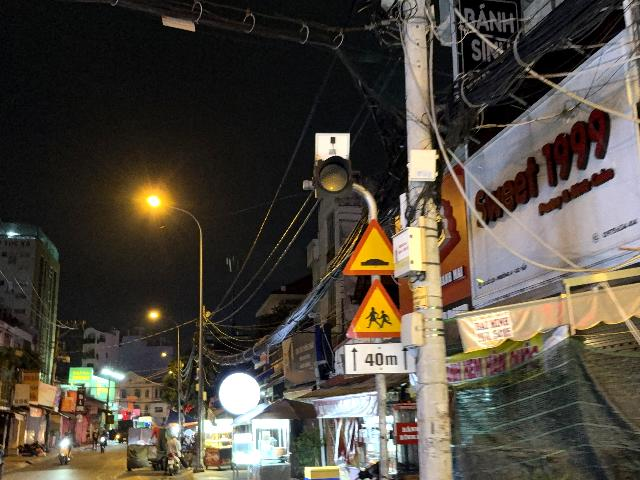duong-co-go-giam-toc: (342, 219, 394, 275)
tre-em-qua-duong: (346, 279, 401, 338)
